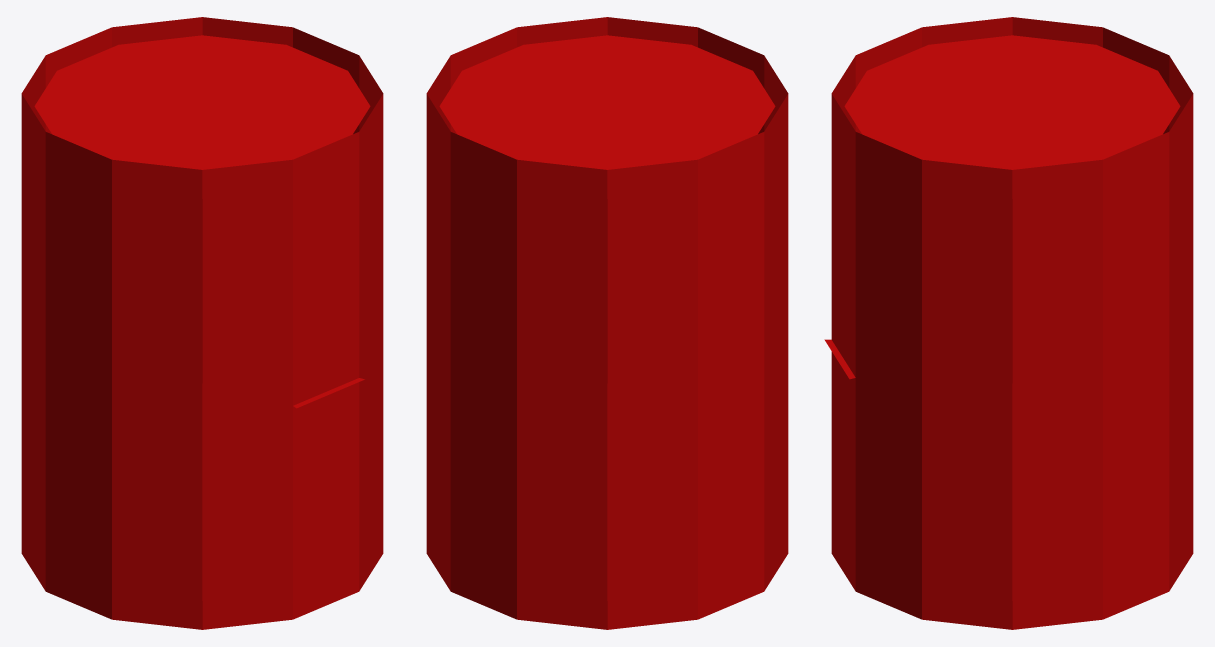
File: Barrel_Red.fbx
3 views of the same model, side by side, from view 1: azimuth 30°, elevation 25°; view 2: azimuth 150°, elevation 25°; view 3: azimuth 270°, elevation 25° (orthographic).
Parts seen in each view (by area): view 1: Barrel_Red; view 2: Barrel_Red; view 3: Barrel_Red.
Part boxes in pixels (box(x1,y1,x2,y2)): Barrel_Red: box(21, 17, 383, 629); Barrel_Red: box(426, 17, 788, 629); Barrel_Red: box(824, 17, 1193, 629).
Size of the model in its own units: 98.75 by 133 by 98.75.
